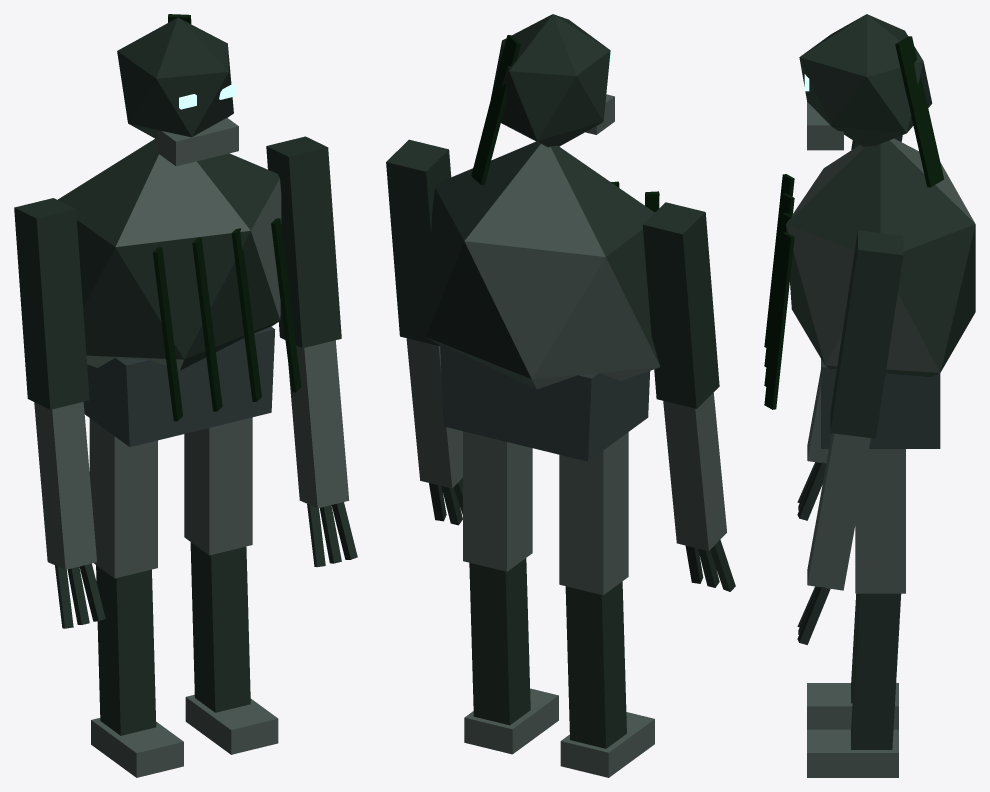
File: CarnicalAfogado.fbx
3 views of the same model, side by side, from view 1: azimuth 30°, elevation 25°; view 2: azimuth 150°, elevation 25°; view 3: azimuth 270°, elevation 25° (orthographic).
Parts seen in each view (by area): view 1: Body, ArmR, LegR, LegL, ArmL, Head; view 2: Body, LegR, ArmR, LegL, ArmL, Head; view 3: Body, ArmL, LegL, Head, LegR, ArmR.
Part boxes in pixels (x1,y1,x2,y2): Body: (57,138,301,446); ArmR: (14,198,105,628); LegR: (89,418,183,777); LegL: (184,417,278,754); ArmL: (266,136,357,567); Head: (117,14,238,166); Body: (426,141,659,461); LegR: (559,432,654,777); ArmR: (642,202,735,591); LegL: (463,431,558,754); ArmL: (386,139,462,525); Head: (471,14,614,185); Body: (764,138,975,448); ArmL: (797,230,903,644); LegL: (807,449,905,777); Head: (799,14,944,187); LegR: (807,593,898,729); ArmR: (797,135,902,520).
Bounding box in the file's own units: 0.8027 × 1.89 × 0.4964.
